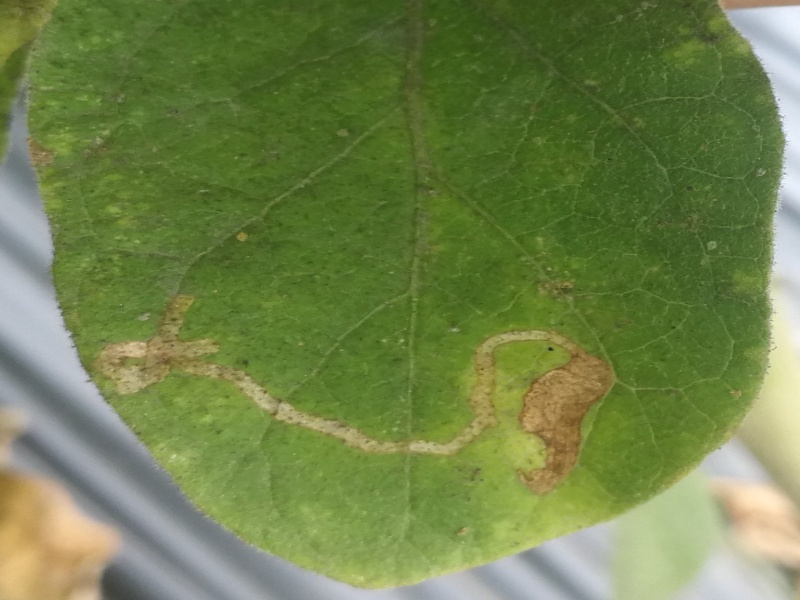leafminer: (94, 291, 625, 502)
